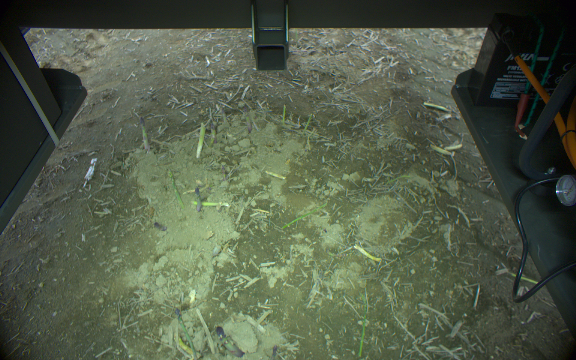aspa: (174, 307, 201, 360), (213, 325, 246, 360), (166, 170, 187, 212), (136, 118, 153, 153), (193, 119, 206, 160), (190, 197, 232, 208), (241, 102, 254, 134), (207, 116, 219, 146), (220, 104, 231, 130), (193, 184, 202, 215)
